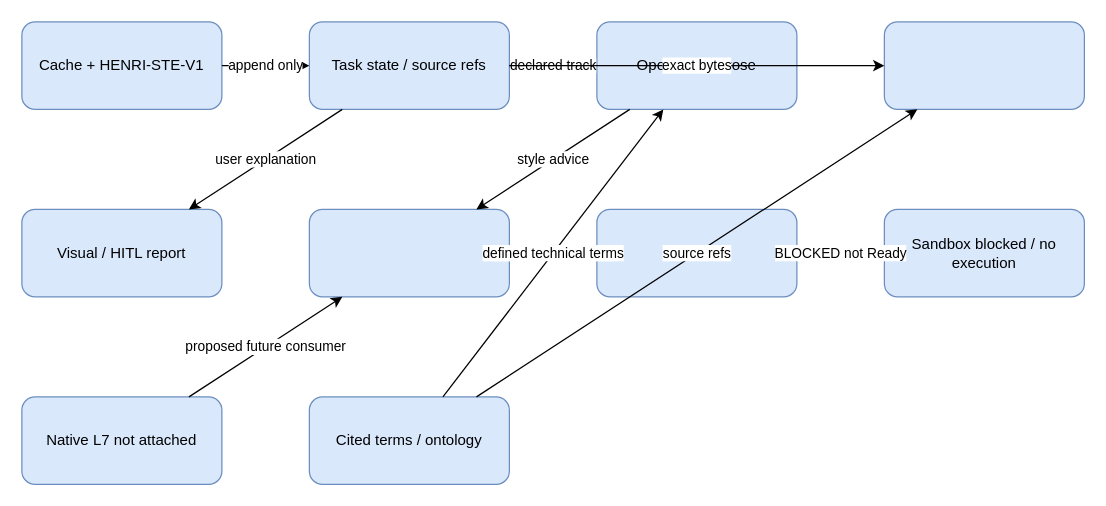
The diagram is 1106 pixels wide and 506 high, and some of its shapes have lost their labels. Here are the shapes that lost their labels. From the top down, the centre of each, then its label:
(x=983, y=65): Formal code / math
(x=408, y=252): Advisory checker
(x=696, y=252): Approval / policy proof
